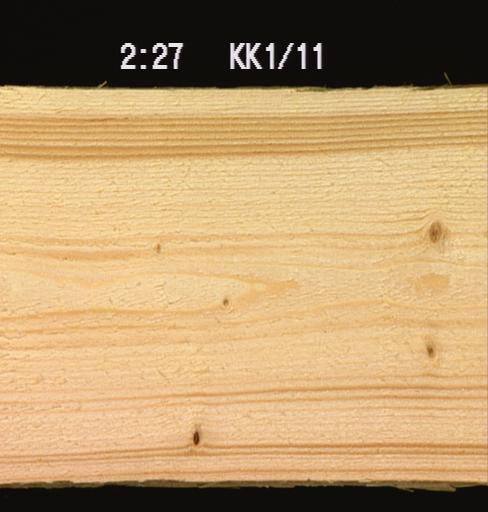dry_knot: (182, 421, 214, 447)
small_knot: (144, 232, 173, 267), (418, 334, 448, 364), (211, 287, 242, 311)
sound_knot: (420, 215, 448, 245)
